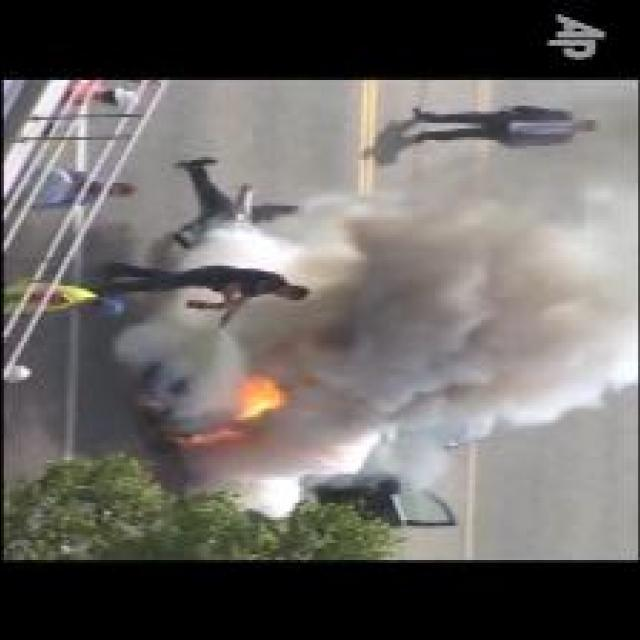Fire: (232, 374, 286, 426)
